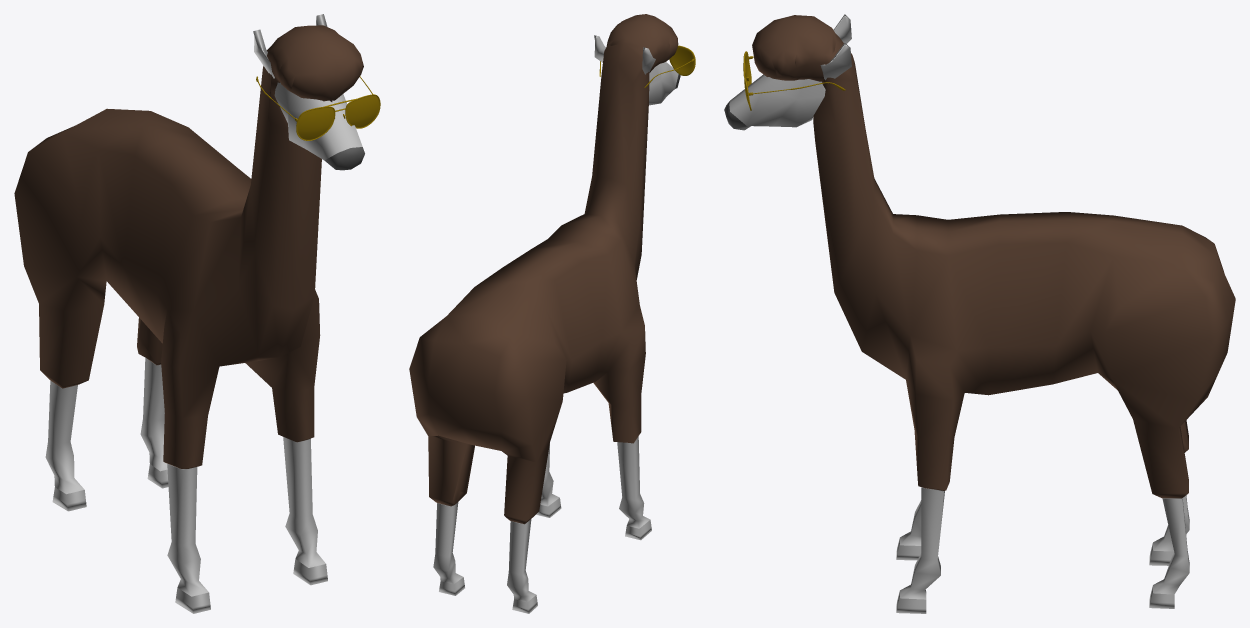
File: Llama1 (1).fbx
3 views of the same model, side by side, from view 1: azimuth 30°, elevation 25°; view 2: azimuth 150°, elevation 25°; view 3: azimuth 270°, elevation 25° (orthographic). The views are drawn at different scales.
Visible parts, largest first — view 1: polySurface5; view 2: polySurface5; view 3: polySurface5.
Part boxes in pixels (left/top/right/bottom): polySurface5: left=14, top=14, right=380, bottom=613; polySurface5: left=409, top=14, right=695, bottom=613; polySurface5: left=724, top=14, right=1235, bottom=613.
Bounding box in the file's own units: 158 × 597 × 491.
